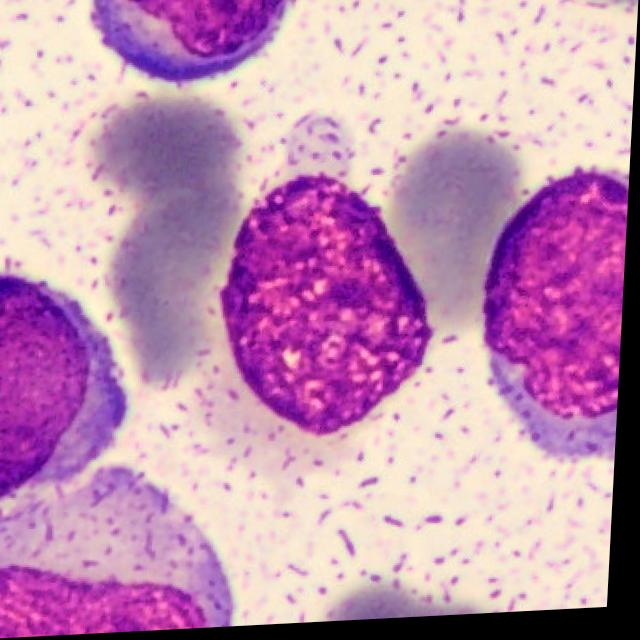Mieloblasto: (485, 173, 631, 466), (0, 461, 240, 639), (0, 269, 132, 502)
Restos celulares: (223, 174, 437, 438)
